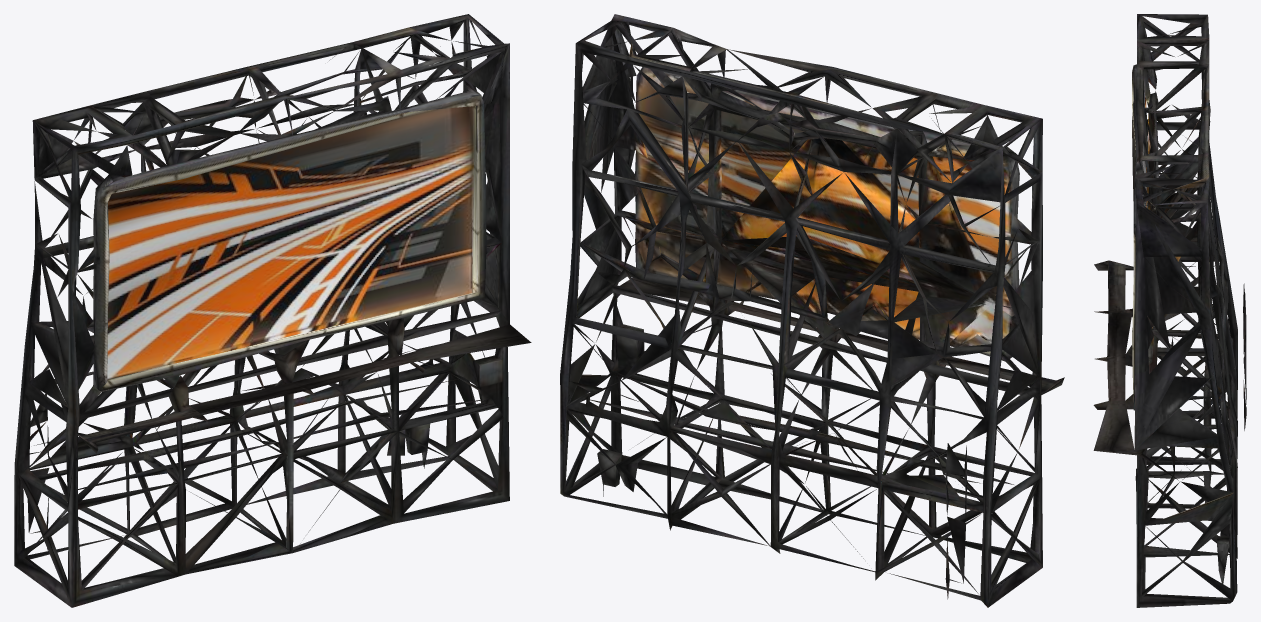
File: billboard.glb
The picture shows the model from 3 angles, left to right: view 1: azimuth 30°, elevation 25°; view 2: azimuth 150°, elevation 25°; view 3: azimuth 270°, elevation 25°; orthographic projection. The views are drawn at different scales.
Visible parts, largest first — view 1: Mesh_0; view 2: Mesh_0; view 3: Mesh_0.
Part boxes in pixels (x1=…): Mesh_0: x1=14, y1=14, x2=531, y2=607; Mesh_0: x1=560, y1=14, x2=1064, y2=607; Mesh_0: x1=1093, y1=14, x2=1246, y2=607.
Size of the model in its own units: 1.9 by 1.88 by 0.6457.
1 material, 1 textured.
